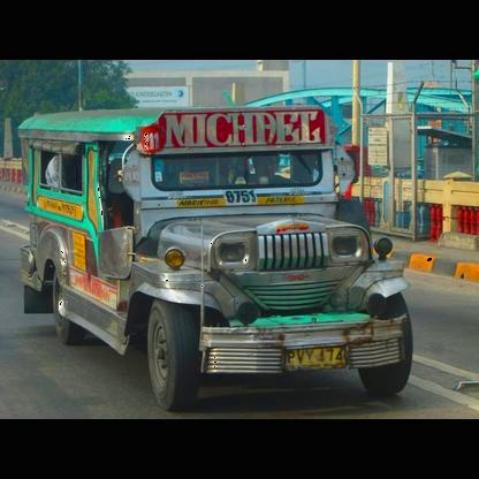jeepney: (7, 98, 424, 407)
